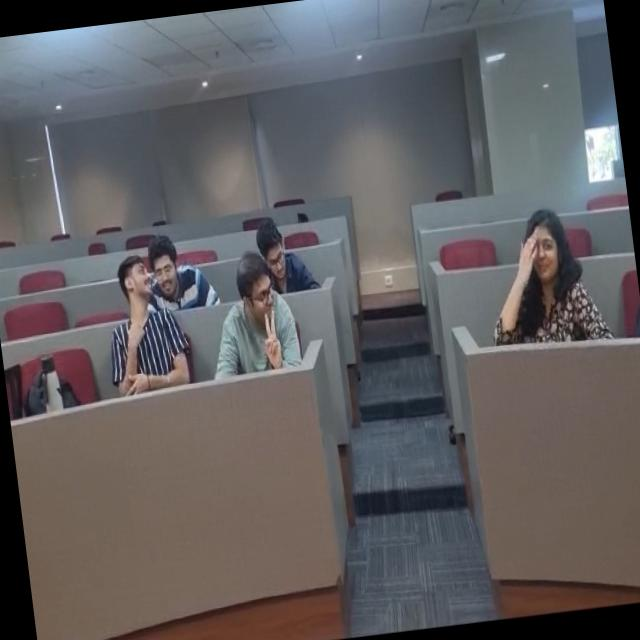cheating: (472, 203, 588, 360), (201, 255, 316, 376), (100, 253, 172, 405), (147, 218, 213, 314)
non-cheating: (252, 214, 312, 290)
